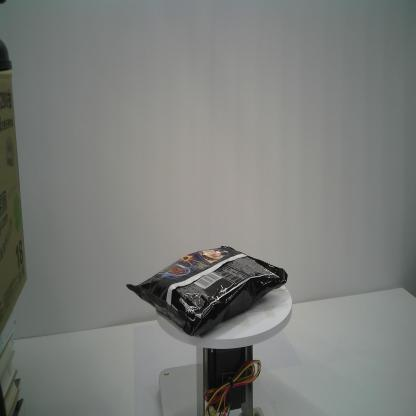Instant Noodles: (127, 244, 289, 336)
